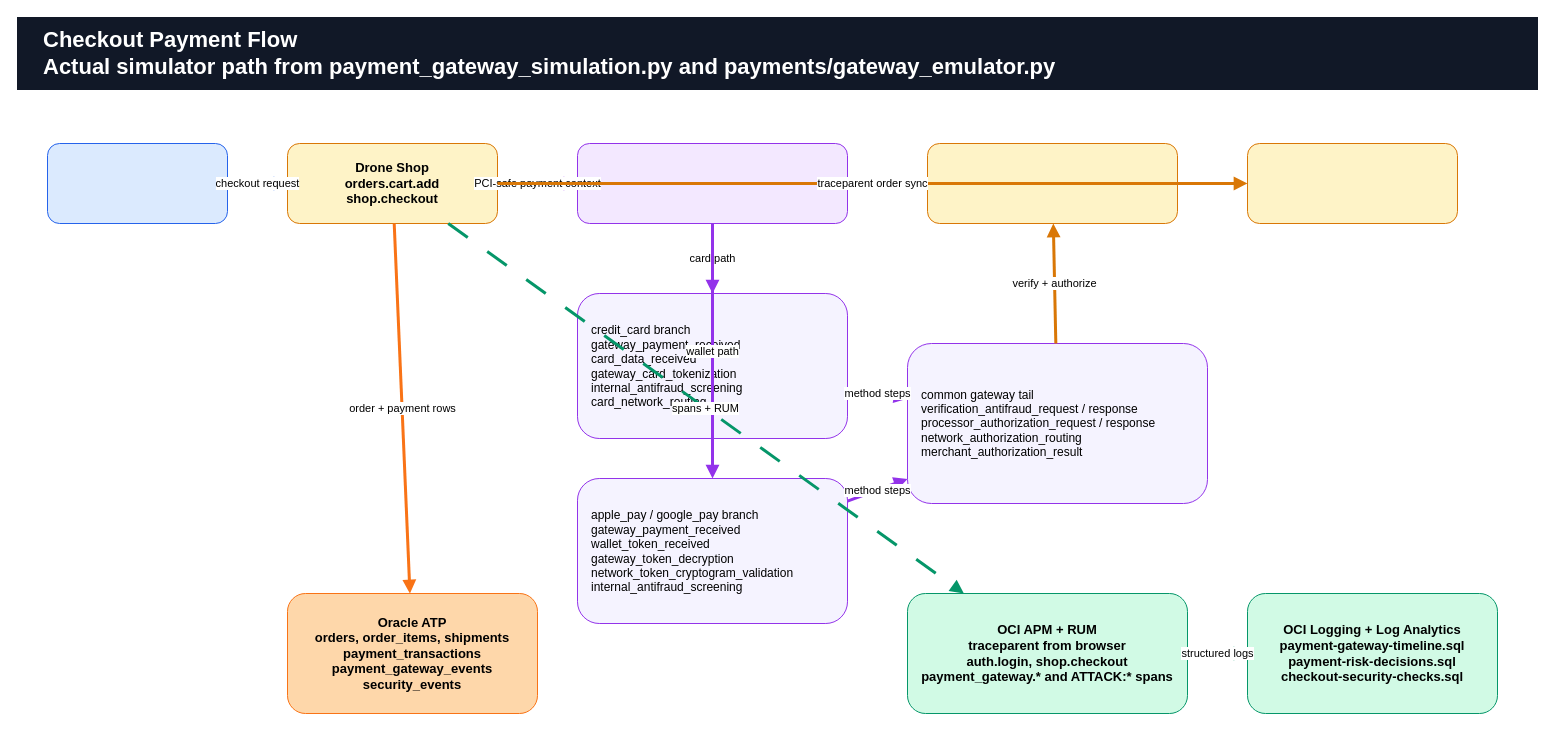
The diagram is 1555 pixels wide and 731 high, and some of its shapes have lost their labels. Each missing label, with the centre of its shape:
"Browser cart + checkout + RUM" goes at point 137,183.
"Enterprise CRM POST /api/orders" goes at point 1352,183.
"Java Processor Simulator verify_payment + authorize_payment" goes at point 1052,183.
"Payment Gateway Emulator payment_gateway.emulator.authorize" goes at point 712,183.
